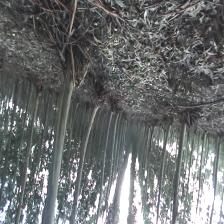trunk: (44, 60, 74, 214), (74, 100, 100, 192), (156, 124, 170, 214), (173, 120, 187, 209), (101, 107, 114, 186)
